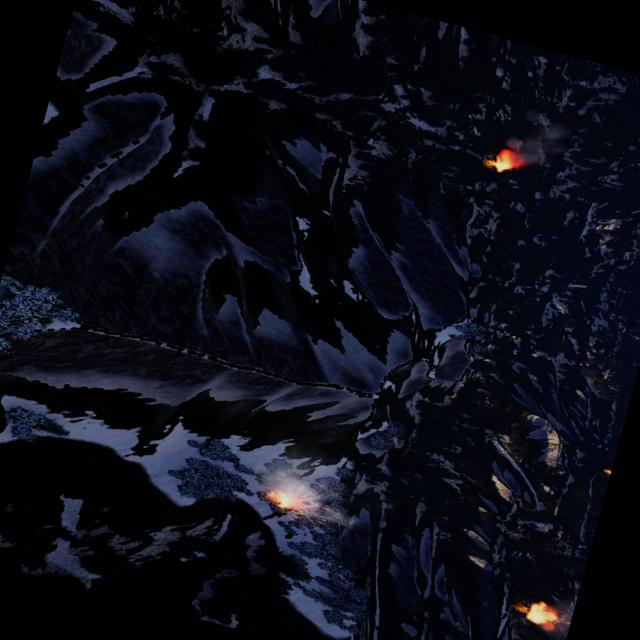fire: (485, 146, 522, 176), (522, 598, 556, 628), (264, 488, 300, 512), (602, 467, 612, 477)
smoke: (208, 428, 379, 526), (502, 104, 574, 172), (542, 575, 581, 640)
